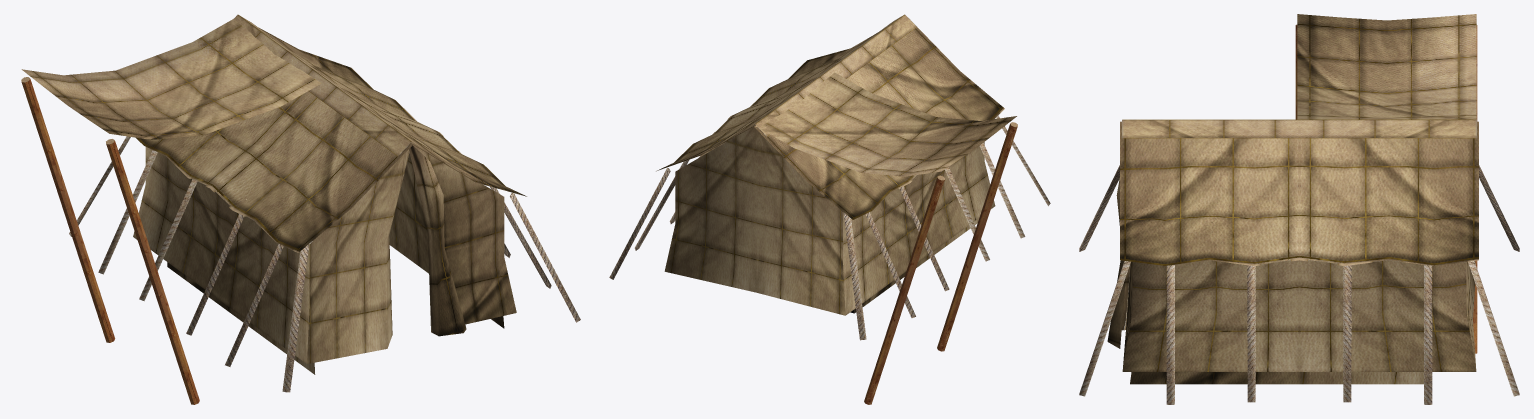
Rendered from rome_tent_a.dae.
3 renders of one model, left to right at view 1: azimuth 30°, elevation 25°; view 2: azimuth 150°, elevation 25°; view 3: azimuth 270°, elevation 25°, orthographic. The views are drawn at different scales.
Parts seen in each view (by area): view 1: rome_sb_tent001; view 2: rome_sb_tent001; view 3: rome_sb_tent001.
Boxes of the visible parts, box(x1,y1,x2,y2) form: rome_sb_tent001: box(21, 14, 580, 404); rome_sb_tent001: box(609, 14, 1050, 404); rome_sb_tent001: box(1079, 14, 1519, 404).
Bounding box in the file's own units: 9.02 × 6.58 × 8.78.
